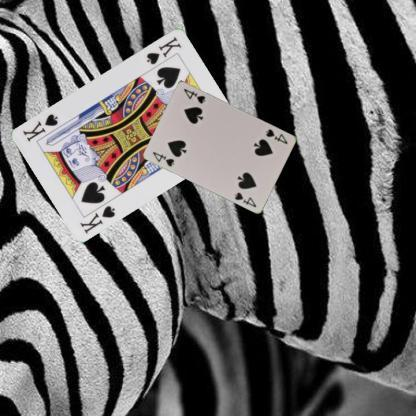4s: (263, 126, 289, 145), (150, 149, 176, 168)
Ks: (144, 33, 182, 66), (78, 202, 116, 235)
